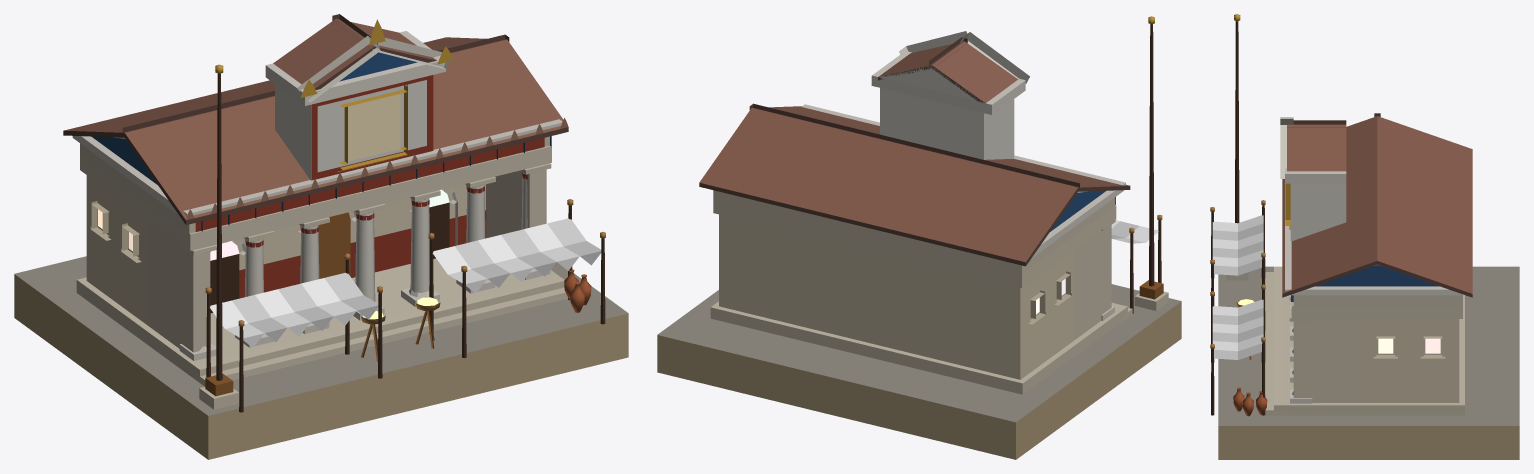
The model's file is harbour-office-ethereum.glb.
The picture shows the model from 3 angles, left to right: view 1: azimuth 30°, elevation 25°; view 2: azimuth 150°, elevation 25°; view 3: azimuth 270°, elevation 25°; orthographic projection. The views are drawn at different scales.
Visible parts, largest first — view 1: office_body, awning, crest_panel, office_body_windows; view 2: office_body, awning; view 3: office_body, awning, office_body_windows.
Part boxes in pixels (x1,y1,x2,y2): office_body: (14, 14, 628, 459); awning: (210, 218, 601, 347); crest_panel: (348, 94, 400, 161); office_body_windows: (98, 189, 449, 260); office_body: (657, 16, 1181, 459); awning: (1111, 220, 1158, 243); office_body: (1210, 14, 1519, 459); awning: (1212, 215, 1263, 359); office_body_windows: (1378, 338, 1440, 353).
Bounding box in the file's own units: 20 × 17.32 × 16.42.
